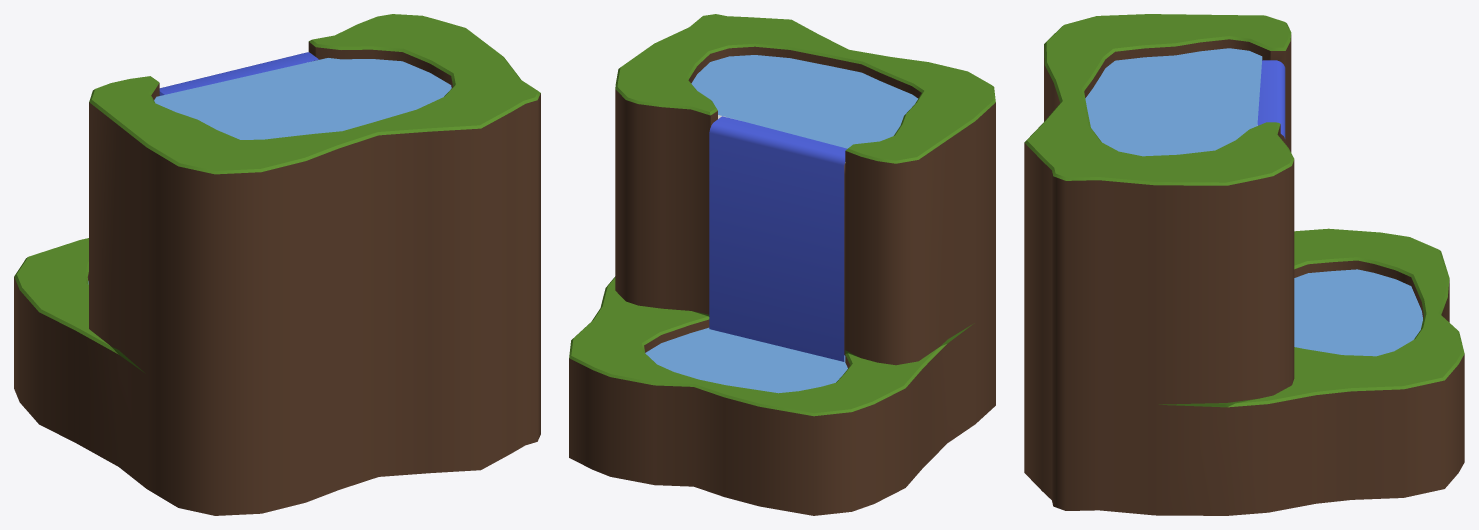
The model's file is demo_model.fbx.
The picture shows the model from 3 angles, left to right: view 1: azimuth 30°, elevation 25°; view 2: azimuth 150°, elevation 25°; view 3: azimuth 270°, elevation 25°; orthographic projection. The views are drawn at different scales.
Visible parts, largest first — view 1: terrain, ponds, waterfall; view 2: terrain, waterfall, ponds; view 3: terrain, ponds, waterfall.
Boxes of the visible parts, x1,y1,x2,y2 form: terrain: (14,14,540,515); ponds: (88,58,451,284); waterfall: (159,52,318,95); terrain: (569,14,995,515); waterfall: (709,116,847,361); ponds: (645,55,917,393); terrain: (1024,14,1464,515); ponds: (1085,48,1422,356); waterfall: (1257,60,1285,138).
Size of the model in its own units: 344 by 300 by 360.
